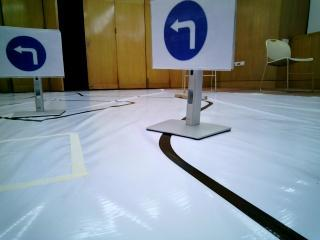left: (151, 2, 232, 68), (0, 26, 61, 75)
